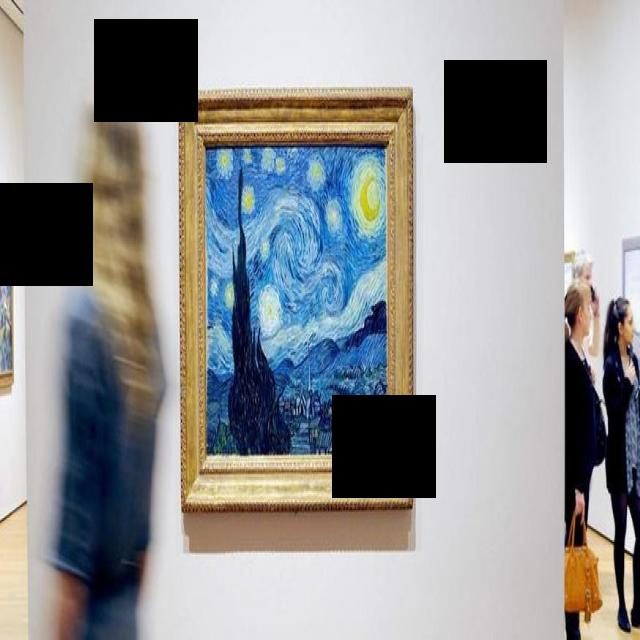Tablo: (203, 143, 389, 460)
